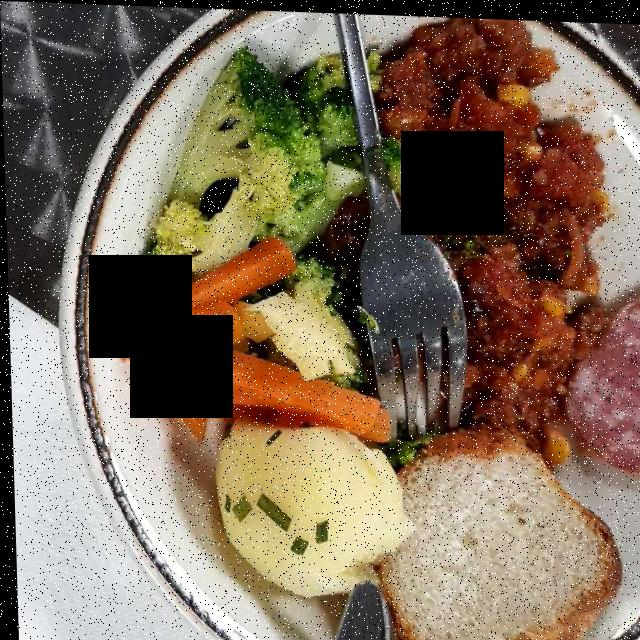bread: (370, 408, 620, 640)
broccoli: (149, 32, 433, 384)
carrot-raw: (95, 226, 407, 435)
chili-con-carne-prepared: (381, 18, 617, 460)
mashed-potatoes-prepared-with-full-fat-milk-with-butter: (205, 402, 428, 603)
salami: (557, 290, 640, 477)
